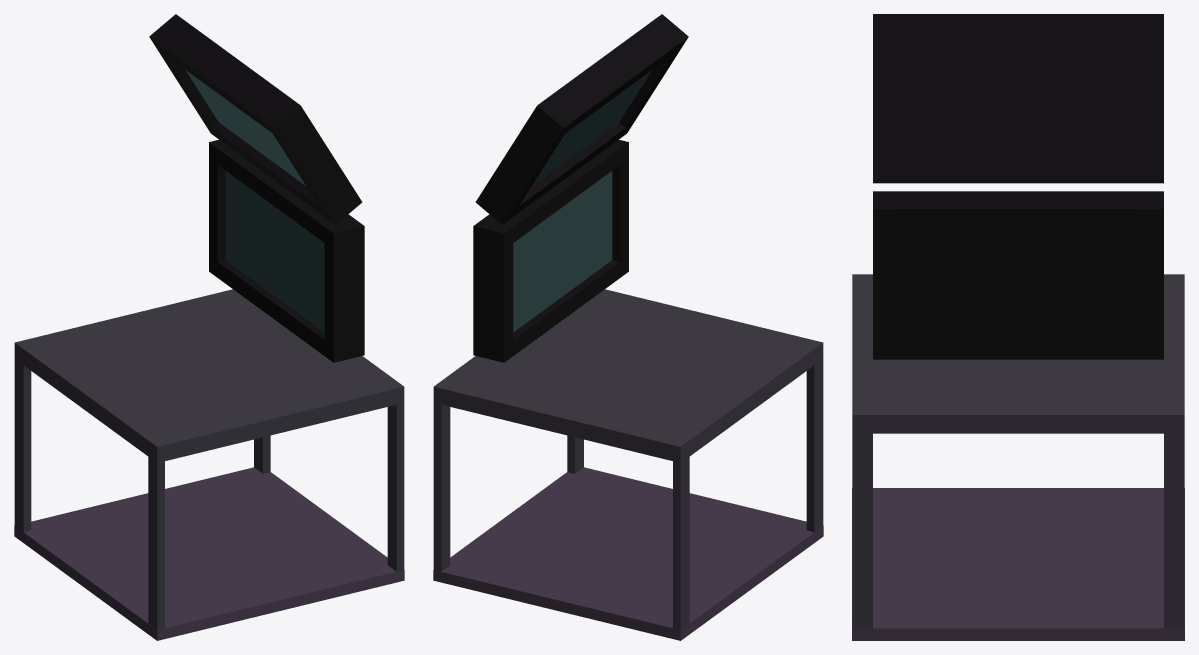
File: monitor1.dae
The picture shows the model from 3 angles, left to right: view 1: azimuth 30°, elevation 25°; view 2: azimuth 150°, elevation 25°; view 3: azimuth 270°, elevation 25°; orthographic projection. The views are drawn at different scales.
Visible parts, largest first — view 1: security_monitor1_MSH; view 2: security_monitor1_MSH; view 3: security_monitor1_MSH.
Part boxes in pixels (x1,y1,x2,y2): security_monitor1_MSH: (14,14,404,640); security_monitor1_MSH: (433,14,823,640); security_monitor1_MSH: (852,14,1184,640).
Bounding box in the file's own units: 1 × 1.9 × 1.
